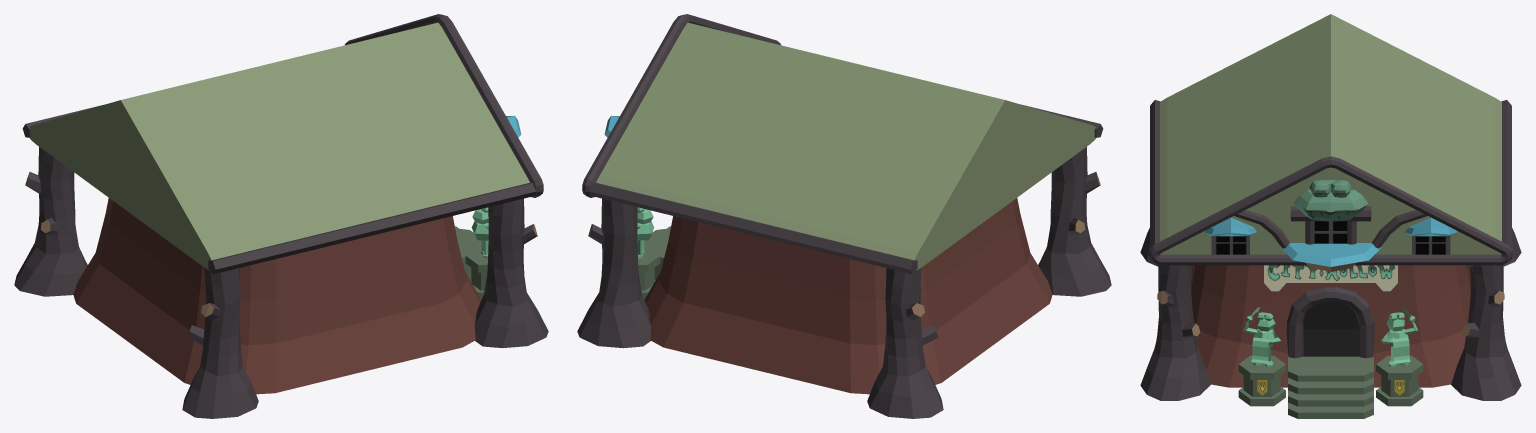
File: hall.glb
The picture shows the model from 3 angles, left to right: view 1: azimuth 30°, elevation 25°; view 2: azimuth 150°, elevation 25°; view 3: azimuth 270°, elevation 25°; orthographic projection. The views are drawn at different scales.
Parts seen in each view (by area): view 1: roof, building, columns, roofOutline, pedistal, statue, stair; view 2: roof, building, columns, roofOutline, pedistal, statue, stair; view 3: roof, building, roofOutline, columns, stair, pedistal, mushTops, inside, doorway, windows, sign, statue (+2 smaller).
Boxes of the visible parts, x1,y1,x2,y2 form: roof: [30, 22, 529, 270]; building: [73, 198, 481, 394]; columns: [14, 147, 548, 418]; roofOutline: [22, 14, 543, 274]; pedistal: [465, 246, 487, 299]; statue: [471, 207, 488, 258]; stair: [455, 226, 488, 279]; roof: [596, 22, 1095, 270]; building: [644, 198, 1052, 394]; columns: [577, 147, 1111, 418]; roofOutline: [582, 14, 1103, 274]; pedistal: [638, 246, 660, 299]; statue: [637, 207, 654, 258]; stair: [637, 226, 670, 279]; roof: [1160, 14, 1501, 254]; building: [1191, 265, 1470, 387]; roofOutline: [1148, 100, 1513, 265]; columns: [1140, 228, 1521, 400]; stair: [1288, 356, 1373, 418]; pedistal: [1238, 355, 1423, 406]; mushTops: [1204, 217, 1457, 266]; inside: [1302, 294, 1359, 356]; doorway: [1286, 287, 1374, 358]; windows: [1211, 221, 1450, 395]; sign: [1264, 265, 1397, 291]; statue: [1243, 307, 1418, 367].
Bounding box in the file's own units: 14.9 × 9.02 × 13.1.
10 materials, 1 textured.
